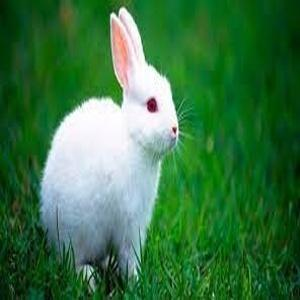rabbit: (41, 7, 179, 278)
